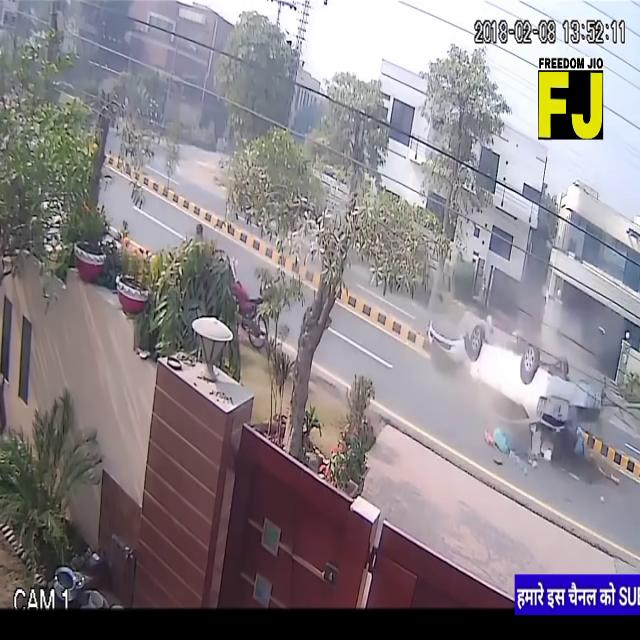accident: (465, 314, 575, 455)
